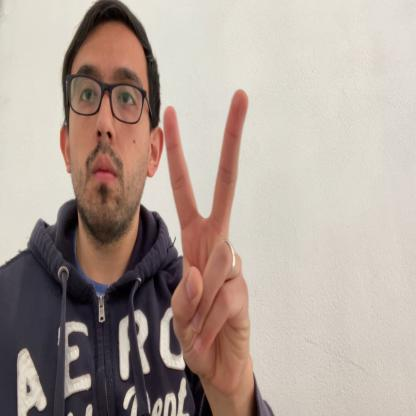V: (163, 89, 251, 406)
